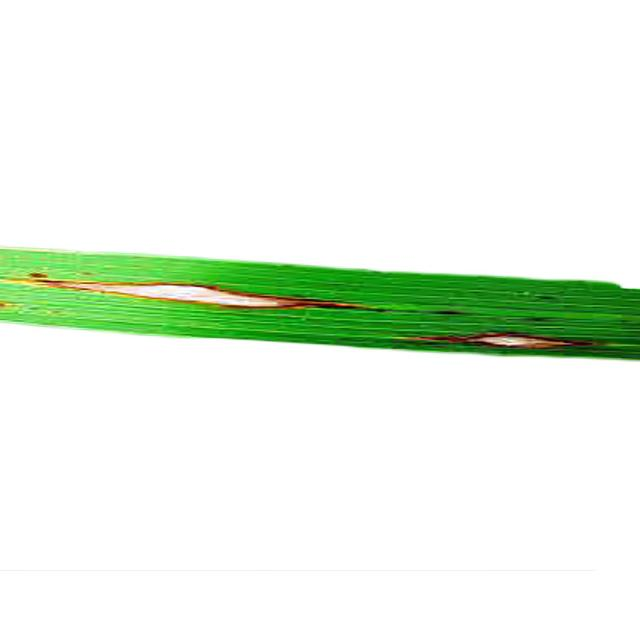Leaf blast: (0, 201, 640, 429)
